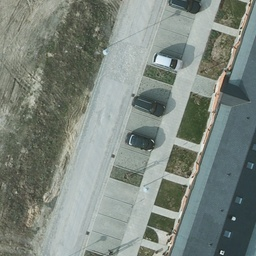car: (130, 93, 165, 116), (124, 130, 156, 153), (153, 52, 185, 72), (170, 0, 201, 13)
